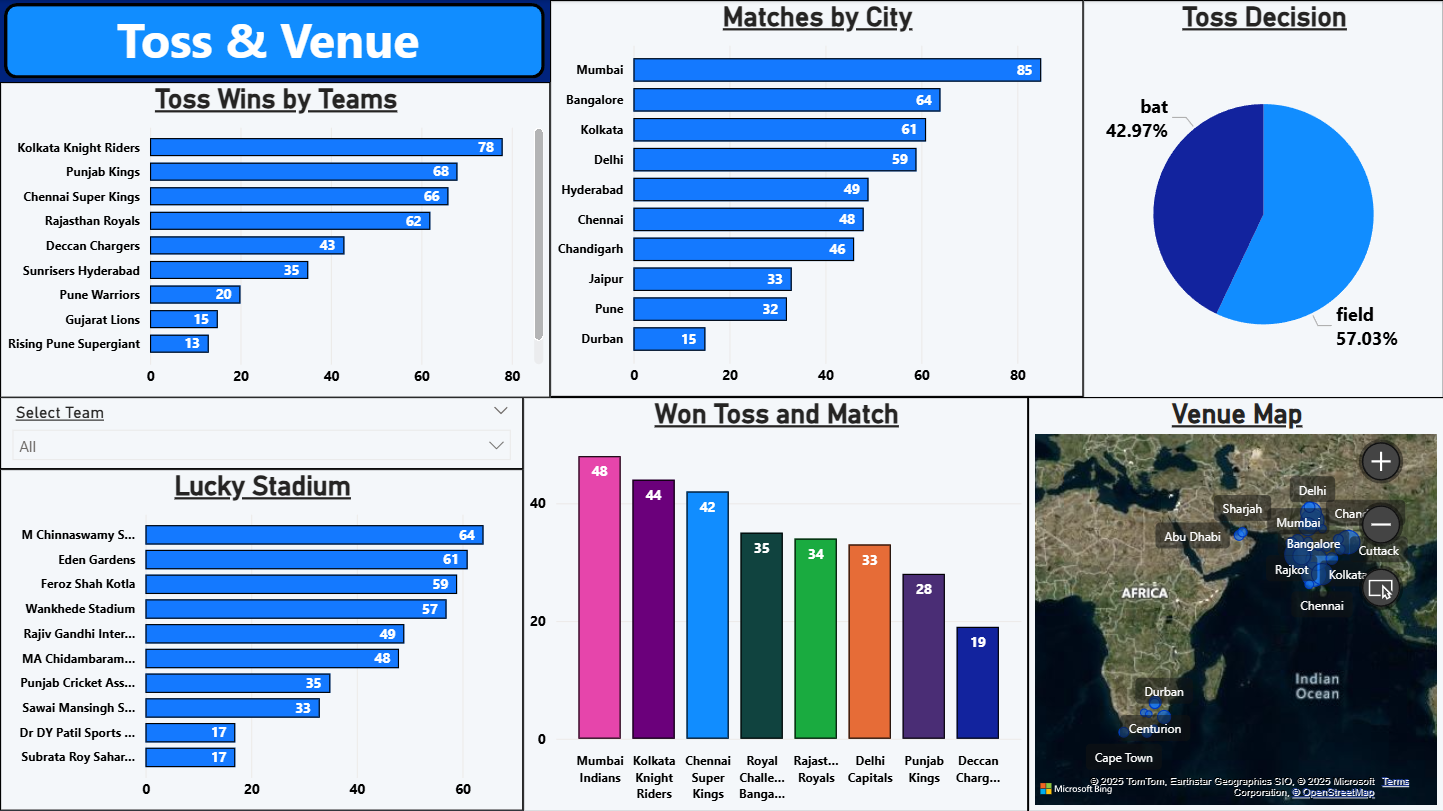

The page's visual inventory and layout, read from the dashboard file:
{"tool":"powerbi","page":{"name":"Toss & Venue_Analysis","canvas":[1280,720],"ordinal":3},"visuals":[{"type":"pieChart","title":"Toss Decision ","fields":{"Y":["CountNonNull(matches (1) csv.id)"],"Category":["matches (1) csv.toss_decision"]},"box":[960.3,0,320.1,352.9],"z":0},{"type":"columnChart","title":"Won Toss and Match ","fields":{"Y":["Measures (2).Won Toss and Match"],"Category":["matches (1) csv.toss_winner"],"Series":["matches (1) csv.winner"]},"box":[464,352,448,368],"z":1000},{"type":"clusteredBarChart","title":"Lucky Stadium","fields":{"Category":["matches (1) csv.venue"],"Y":["CountNonNull(matches (1) csv.id)"]},"box":[0,416.3,464,303.5],"z":1000,"group":"g1"},{"type":"clusteredBarChart","title":"Matches by City","fields":{"Category":["matches (1) csv.city"],"Y":["CountNonNull(matches (1) csv.id)"]},"box":[487.7,0,472.6,352],"z":2000},{"type":"map","title":"Venue Map","fields":{"Category":["matches (1) csv.city"],"Size":["Count(matches (1) csv.id)"]},"box":[911.5,352,368.9,368],"z":3000},{"type":"slicer","fields":{"Values":["matches (1) csv.winner"]},"box":[0,352.1,464,64.2],"z":3000,"group":"g1"},{"type":"shape","box":[3.9,2.9,479.5,67.1],"z":4000},{"type":"textbox","box":[14.6,0,459.1,72.9],"z":5000},{"type":"group","id":"g1","title":"Group 1","box":[0,352.1,464,367.7],"z":6000},{"type":"actionButton","box":[0,0,190.6,70],"z":7000},{"type":"actionButton","box":[244.1,0,229.5,70],"z":8000},{"type":"clusteredBarChart","title":"Toss Wins by Teams","fields":{"Y":["CountNonNull(matches (1) csv.id)"],"Category":["matches (1) csv.toss_winner"]},"box":[0,72.7,487.7,280.2],"z":9000}]}

Visuals, with their boxes in screenshot pixels (x1, y1, x2, y2), scaled from the page's 1280x720 canvas onto the 1443x811 screenshot:
"Toss Decision " pieChart: x1=1083 y1=0 x2=1442 y2=398
"Won Toss and Match " columnChart: x1=523 y1=396 x2=1028 y2=810
"Lucky Stadium" clusteredBarChart: x1=0 y1=469 x2=523 y2=810
"Matches by City" clusteredBarChart: x1=550 y1=0 x2=1083 y2=396
"Venue Map" map: x1=1028 y1=396 x2=1442 y2=810
slicer - matches (1) csv.winner: x1=0 y1=397 x2=523 y2=469
shape: x1=4 y1=3 x2=545 y2=79
textbox: x1=16 y1=0 x2=534 y2=82
"Group 1" group: x1=0 y1=397 x2=523 y2=810
actionButton: x1=0 y1=0 x2=215 y2=79
actionButton: x1=275 y1=0 x2=534 y2=79
"Toss Wins by Teams" clusteredBarChart: x1=0 y1=82 x2=550 y2=398
